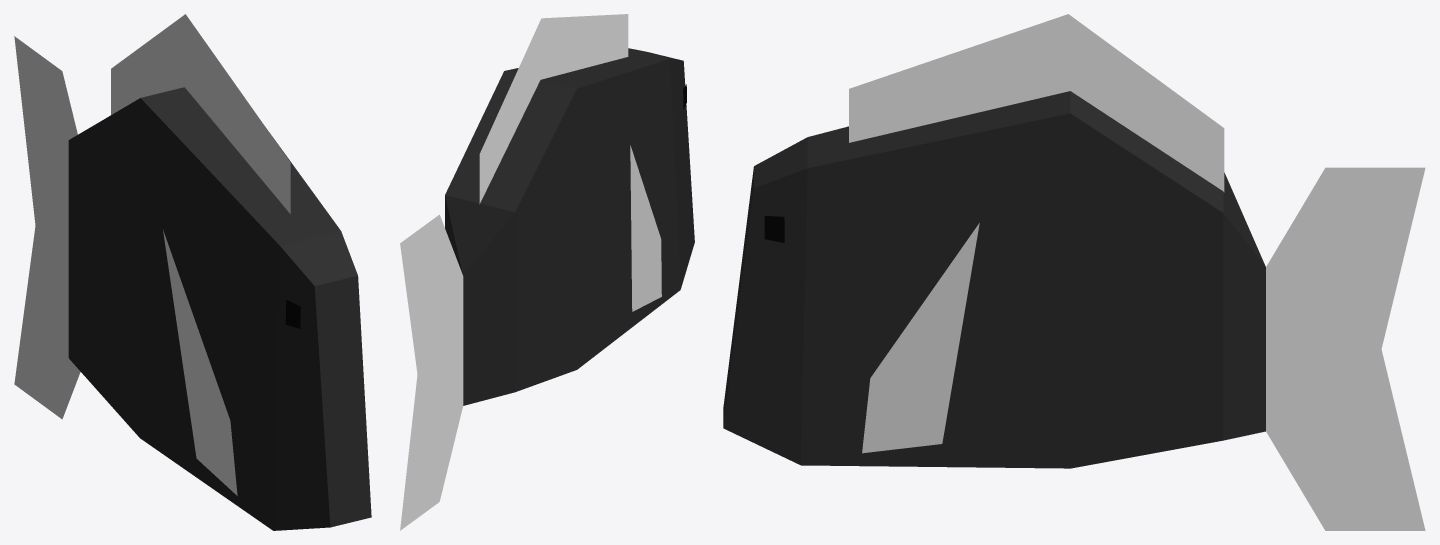
File: 10fish.fbx
The picture shows the model from 3 angles, left to right: view 1: azimuth 30°, elevation 25°; view 2: azimuth 150°, elevation 25°; view 3: azimuth 270°, elevation 25°; orthographic projection. The views are drawn at different scales.
Visible parts, largest first — view 1: Tropical Fish 10; view 2: Tropical Fish 10; view 3: Tropical Fish 10.
Boxes of the visible parts, x1,y1,x2,y2 form: Tropical Fish 10: [14, 14, 371, 530]; Tropical Fish 10: [400, 14, 694, 530]; Tropical Fish 10: [723, 14, 1425, 530].
Size of the model in its own units: 51.33 by 186 by 229.
